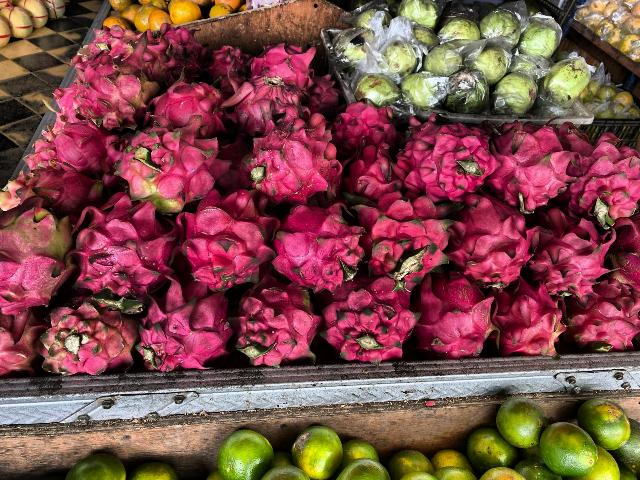buah-naga-belum-matang: (1, 192, 72, 304), (116, 125, 212, 204), (34, 309, 144, 371)
buah-naga-matang: (72, 202, 176, 296), (186, 186, 280, 286), (438, 192, 534, 288), (220, 280, 324, 366), (323, 270, 417, 362), (522, 193, 604, 297), (358, 182, 444, 278), (412, 272, 502, 362), (268, 201, 362, 285), (479, 124, 567, 212), (140, 286, 228, 372), (241, 125, 339, 202), (565, 130, 639, 227), (488, 264, 558, 356), (562, 278, 636, 354), (408, 119, 480, 195), (150, 74, 226, 138), (65, 63, 152, 116), (38, 112, 98, 176), (249, 42, 315, 100), (328, 97, 396, 151), (235, 74, 299, 128)
